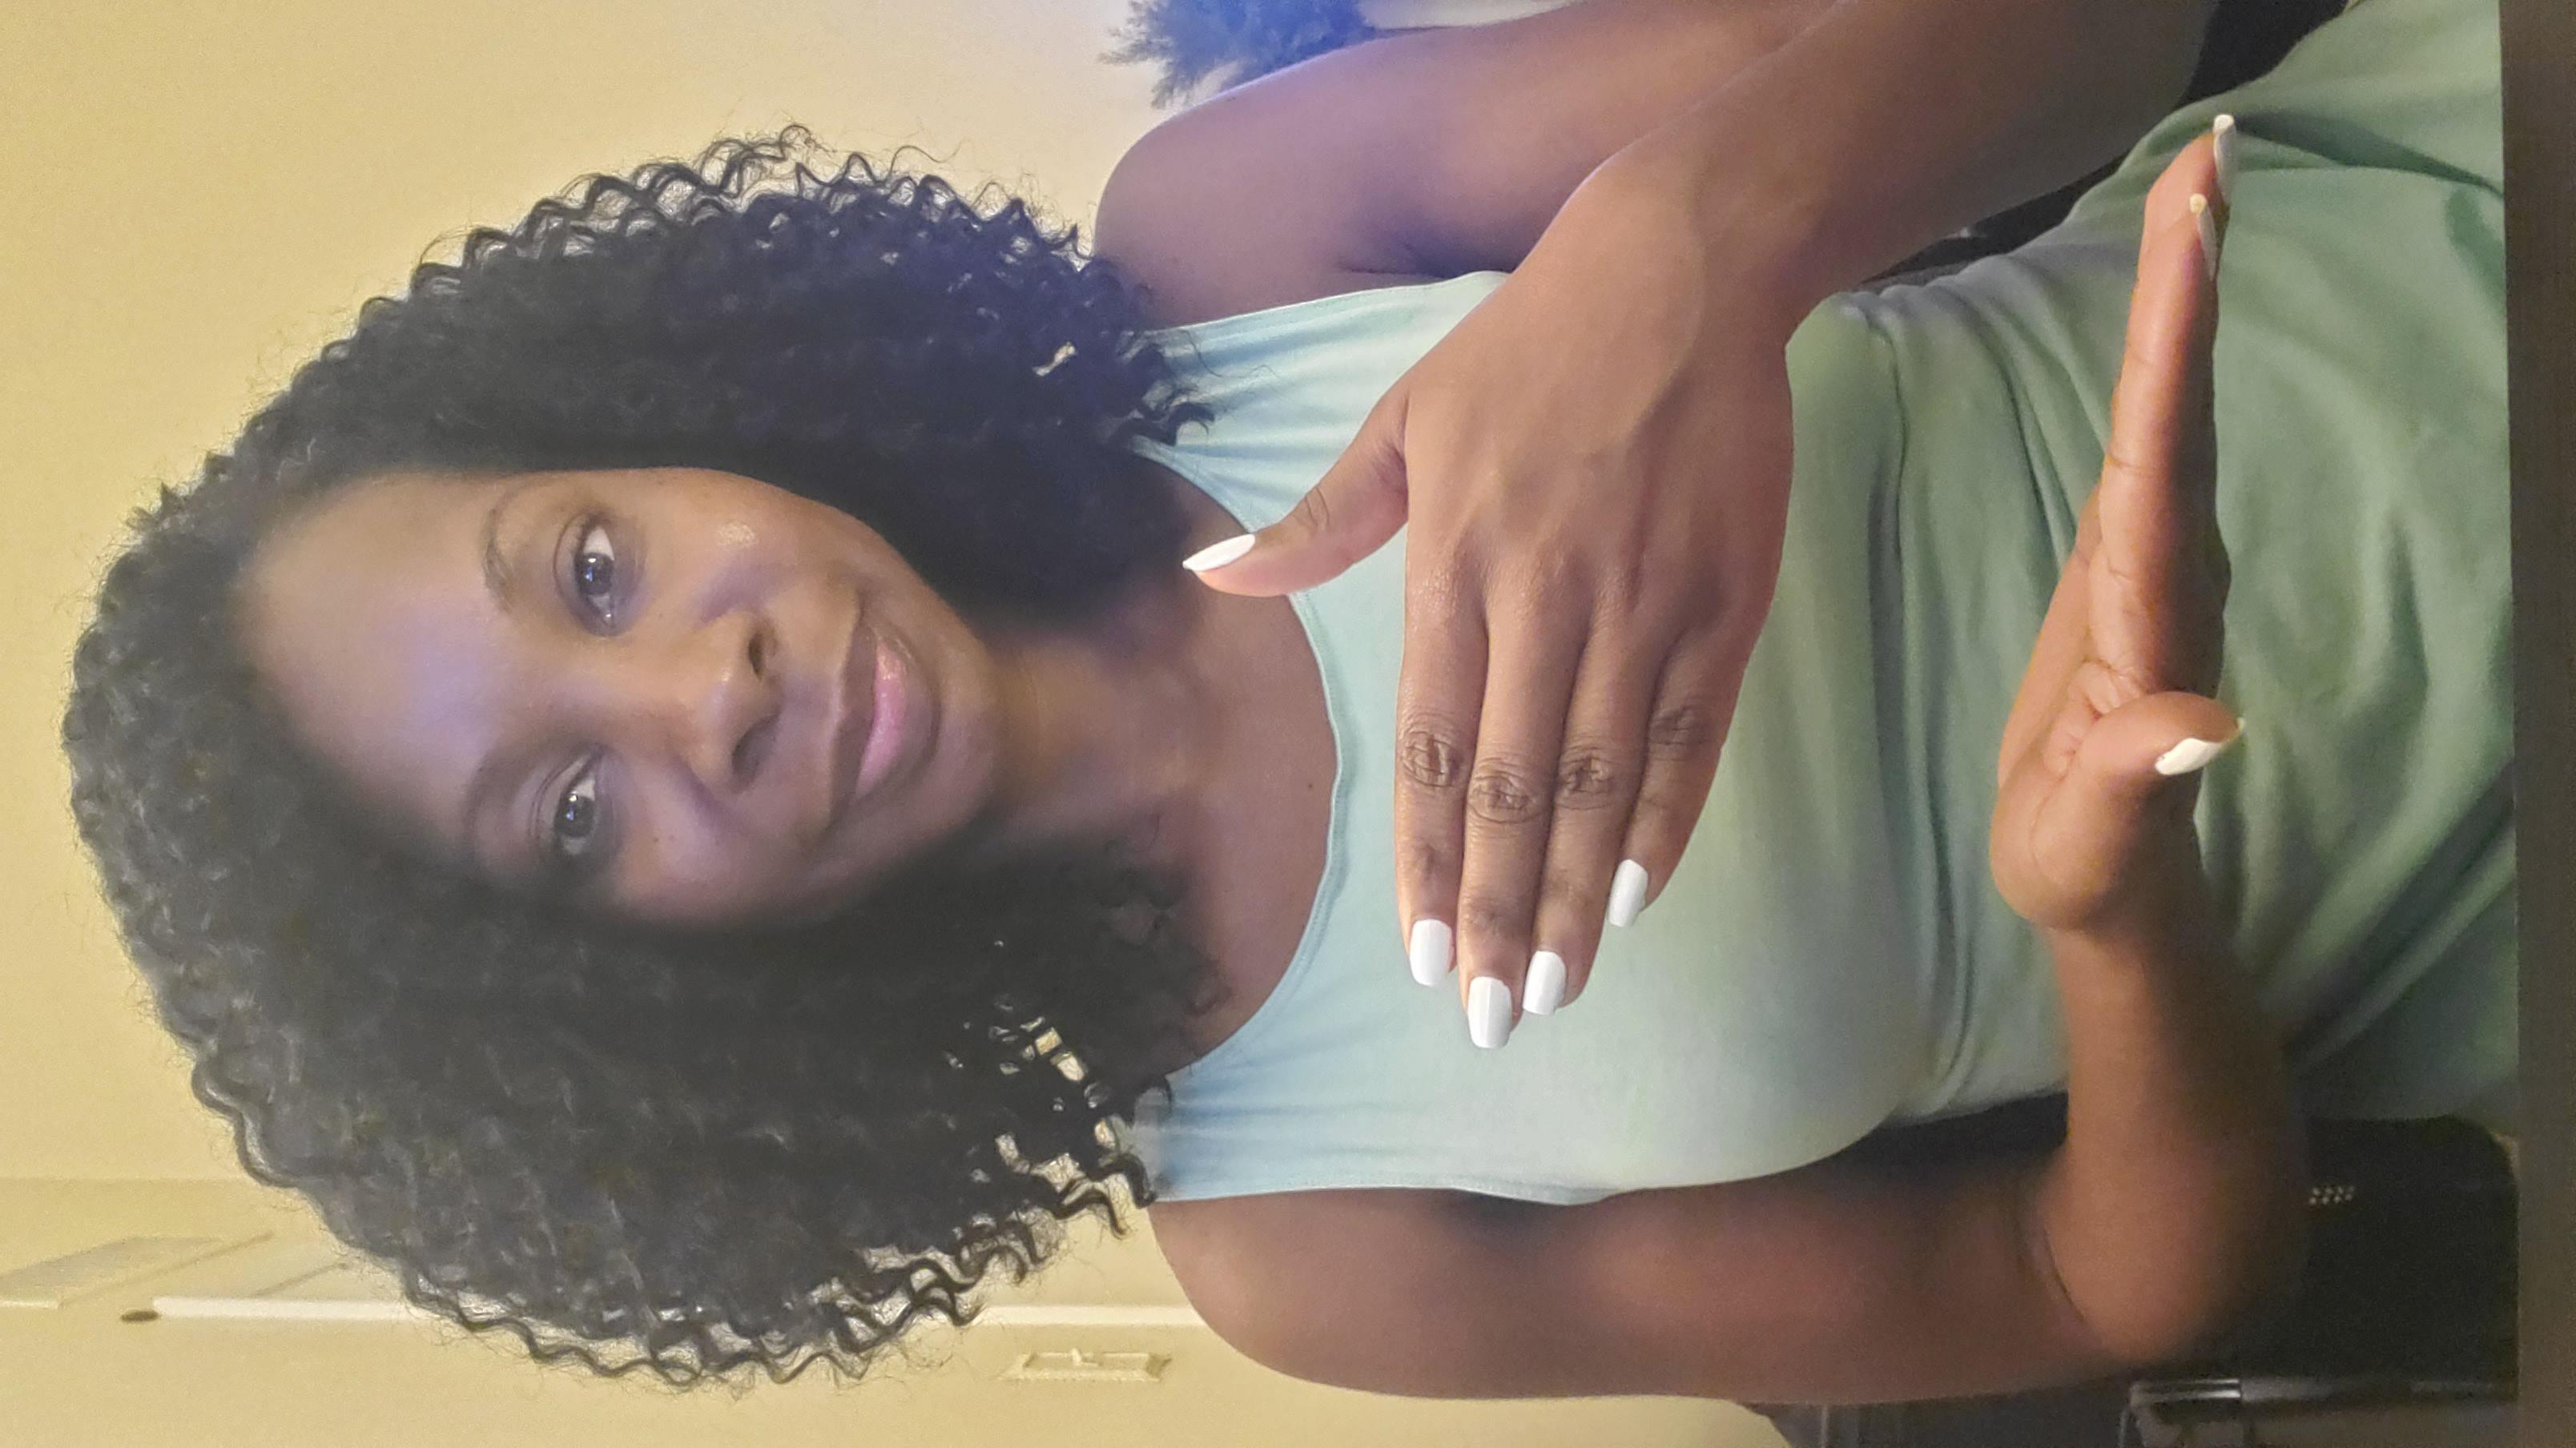Paper: (752, 661, 2111, 1045)
